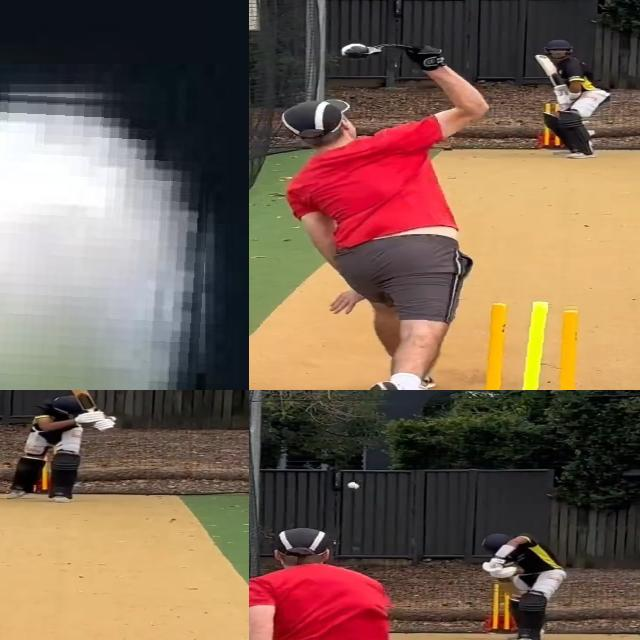Cricket ball: (0, 85, 215, 390), (345, 480, 362, 490)
Stumps: (473, 301, 595, 390)
